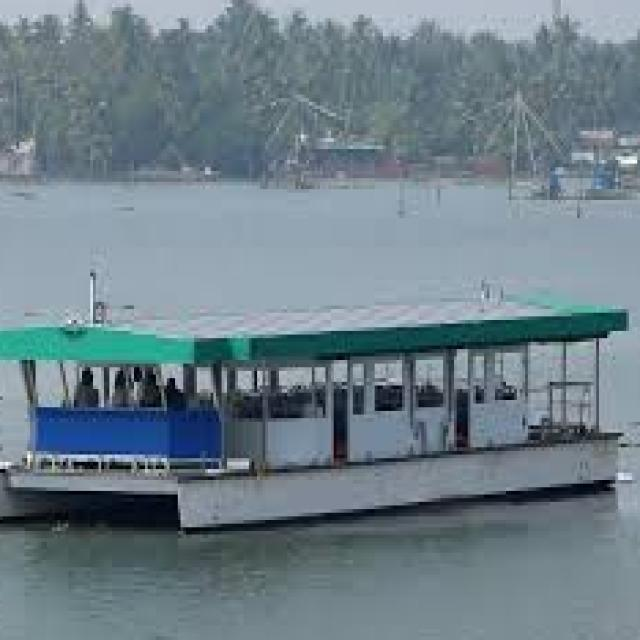houseboat: (0, 269, 640, 542)
